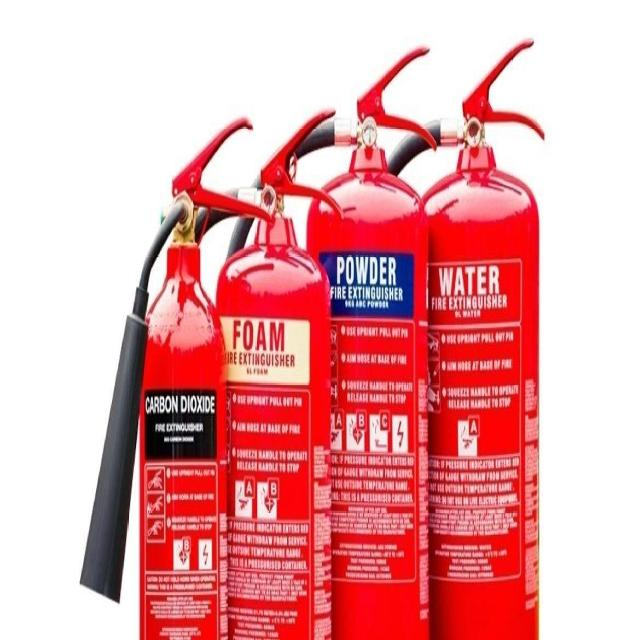fire_extinguisher: (217, 40, 439, 639), (335, 29, 549, 639), (77, 109, 276, 639), (160, 104, 346, 639)
